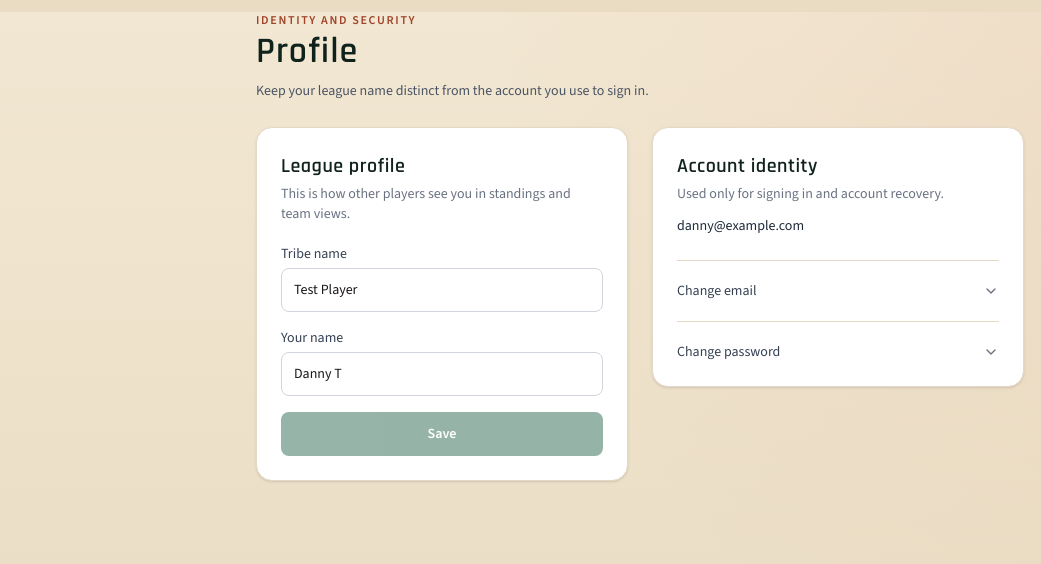
Test case: account entry flows › keeps league identity separate from account identity on Profile
expect the heading "League profile" is shown: met, box [281,153,405,179]
expect the heading "Account identity" is shown: met, box [677,153,818,179]
Replace the text in the field labelled "Tribe name" with "  Danny  " at (442, 290), box [281,268,603,312]
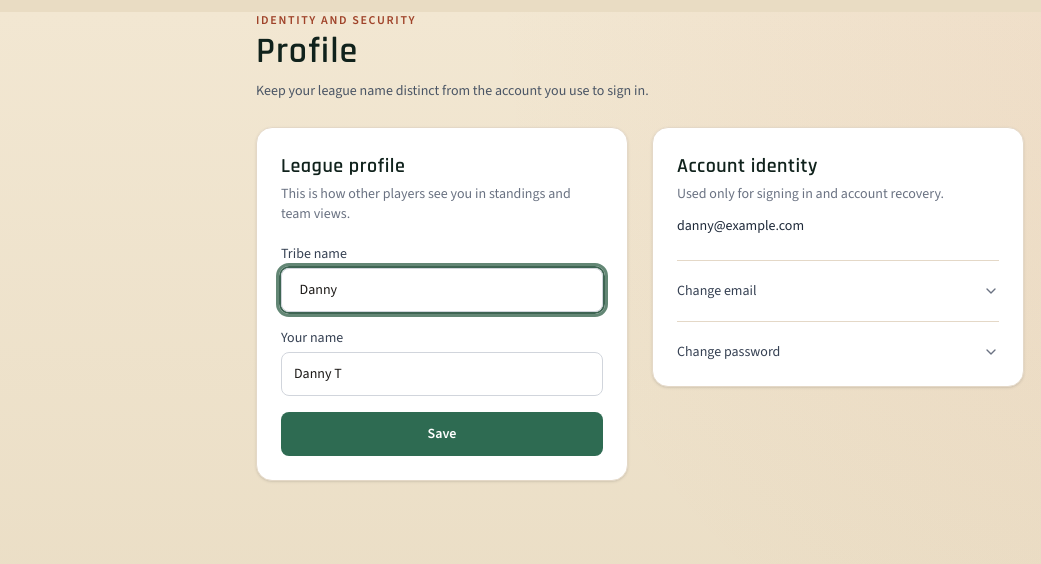
Click the button "Save" at (442, 434), box [281,412,603,456]
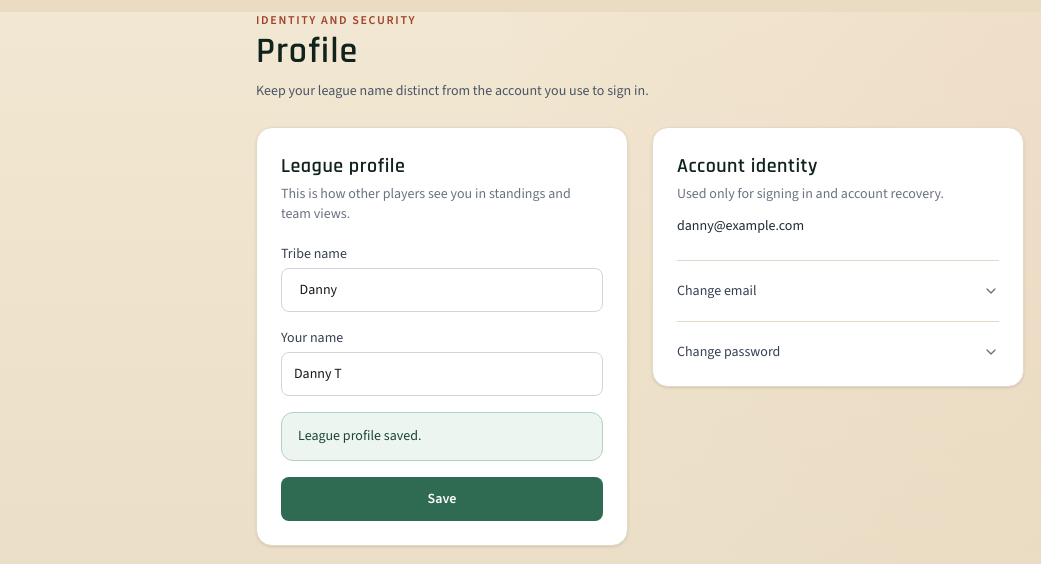
expect the message shows "League profile saved": met, box [298,426,421,445]
